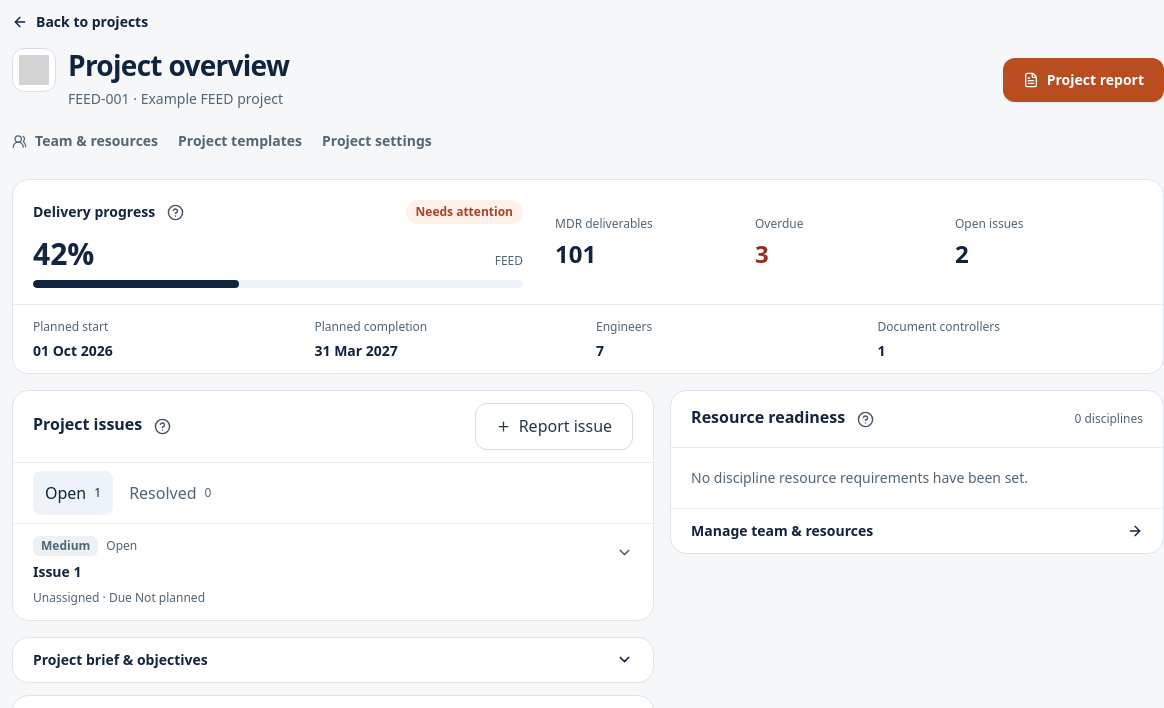
Test: issue triage and disclosures › uses truthful fallback text for missing issue description/owner/due date
Click the heading "medium open Issue 1 Unassigned · Due Not planned": (66, 546) x1=13 y1=524 x2=653 y2=620
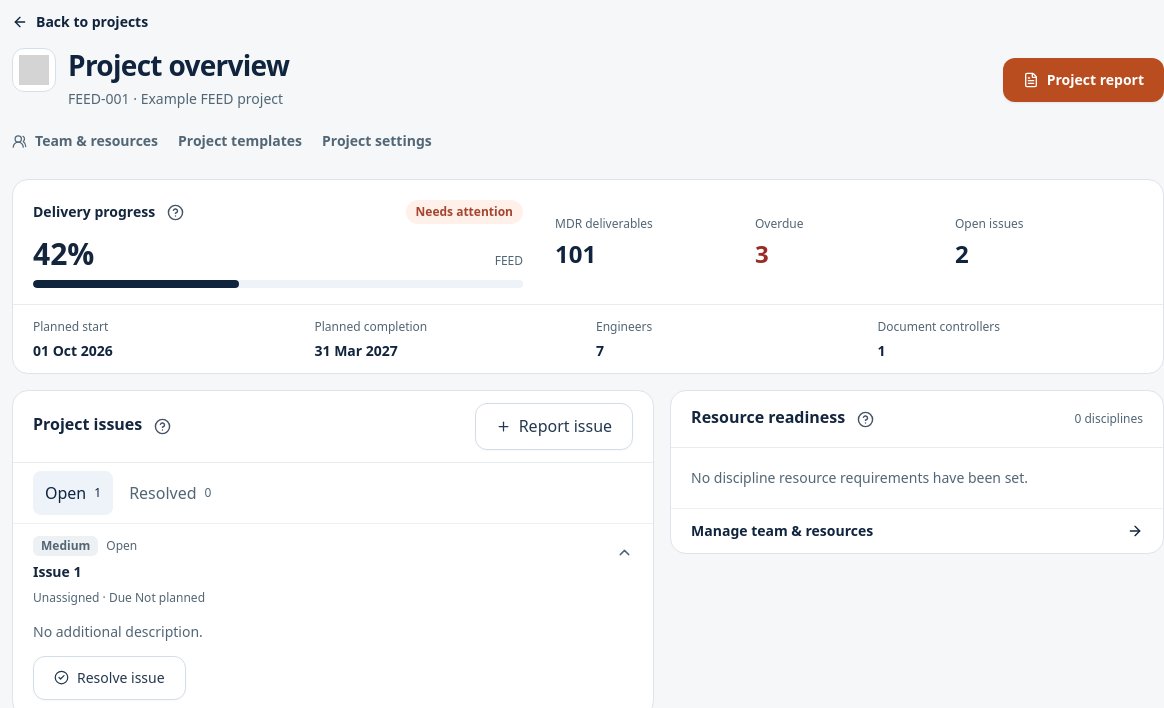
Expected: the text "Unassigned · Due Not planned" is shown, x1=33 y1=589 x2=205 y2=606
Expected: the text "No additional description." is shown, x1=33 y1=622 x2=203 y2=641
